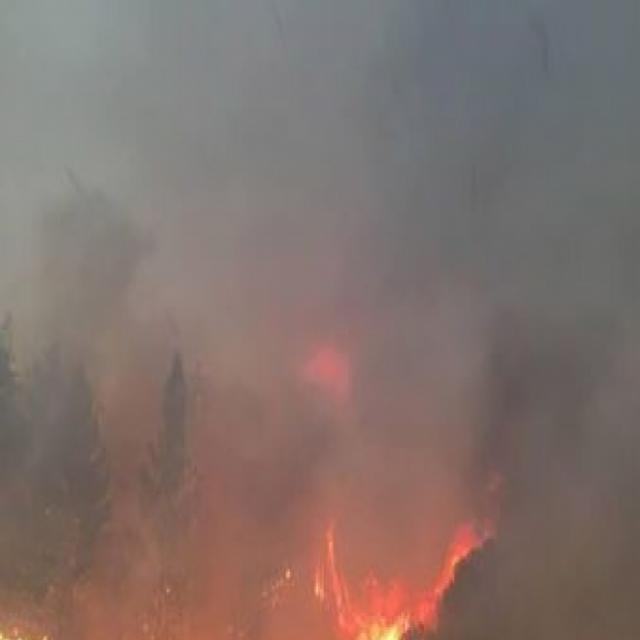Fire: (234, 452, 494, 640)
